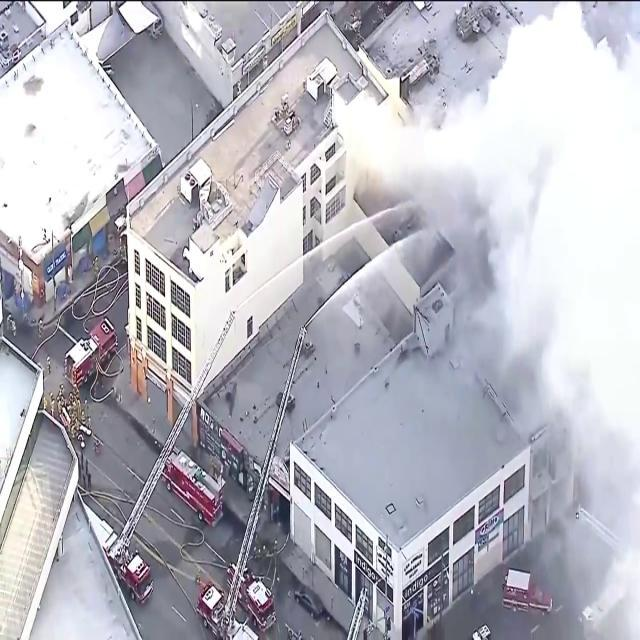Smoke: (344, 1, 640, 620)
